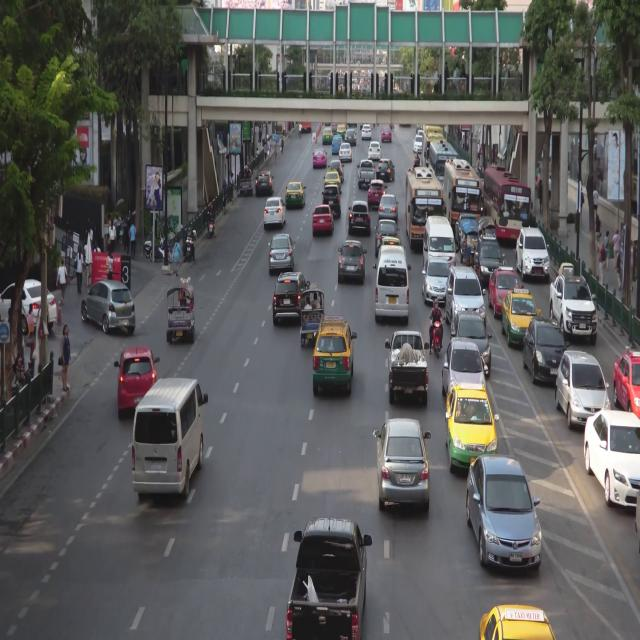bus: (484, 166, 529, 246), (406, 169, 445, 248), (444, 160, 482, 238), (429, 141, 458, 208), (422, 127, 445, 184)
car: (467, 458, 543, 575), (292, 520, 366, 640), (135, 380, 205, 499), (584, 410, 640, 512), (376, 423, 431, 513), (555, 348, 609, 431), (80, 278, 136, 339), (0, 276, 59, 332), (387, 330, 429, 408), (553, 270, 599, 339), (117, 343, 157, 414), (443, 342, 488, 404), (524, 319, 567, 382), (376, 248, 411, 324), (448, 265, 485, 336), (451, 309, 492, 373), (165, 276, 194, 354), (424, 218, 455, 278), (275, 268, 304, 321), (518, 225, 546, 279), (339, 238, 367, 286), (424, 257, 449, 310), (303, 291, 324, 350), (269, 232, 295, 277), (478, 236, 500, 284), (460, 222, 479, 273), (264, 198, 287, 230), (348, 200, 371, 232), (376, 216, 398, 247), (313, 205, 336, 234), (322, 184, 341, 218), (256, 170, 273, 197), (379, 194, 398, 218), (357, 160, 375, 185), (378, 157, 395, 181), (480, 221, 496, 246), (369, 180, 385, 204), (329, 160, 345, 179), (380, 125, 393, 145), (339, 144, 353, 160), (345, 129, 359, 145), (369, 143, 380, 159), (363, 124, 371, 139)
pedestrian: (61, 325, 69, 392), (598, 239, 607, 289), (56, 259, 66, 301), (77, 248, 84, 299), (613, 226, 620, 268), (28, 304, 36, 339), (129, 220, 136, 256), (616, 250, 622, 290), (605, 232, 611, 269), (109, 221, 116, 252), (124, 218, 130, 253), (538, 179, 543, 213), (594, 186, 599, 219), (596, 214, 600, 254), (230, 173, 235, 198), (548, 173, 552, 204), (267, 135, 272, 158), (581, 186, 584, 222), (274, 140, 278, 165), (281, 131, 284, 155), (265, 140, 268, 161)
taxi: (446, 382, 497, 476), (312, 316, 351, 399), (478, 606, 556, 640), (504, 291, 538, 348), (614, 352, 640, 420), (490, 270, 521, 317), (286, 182, 306, 209), (325, 172, 341, 195), (313, 148, 327, 169), (333, 137, 342, 154), (323, 129, 332, 145), (337, 125, 346, 139)
